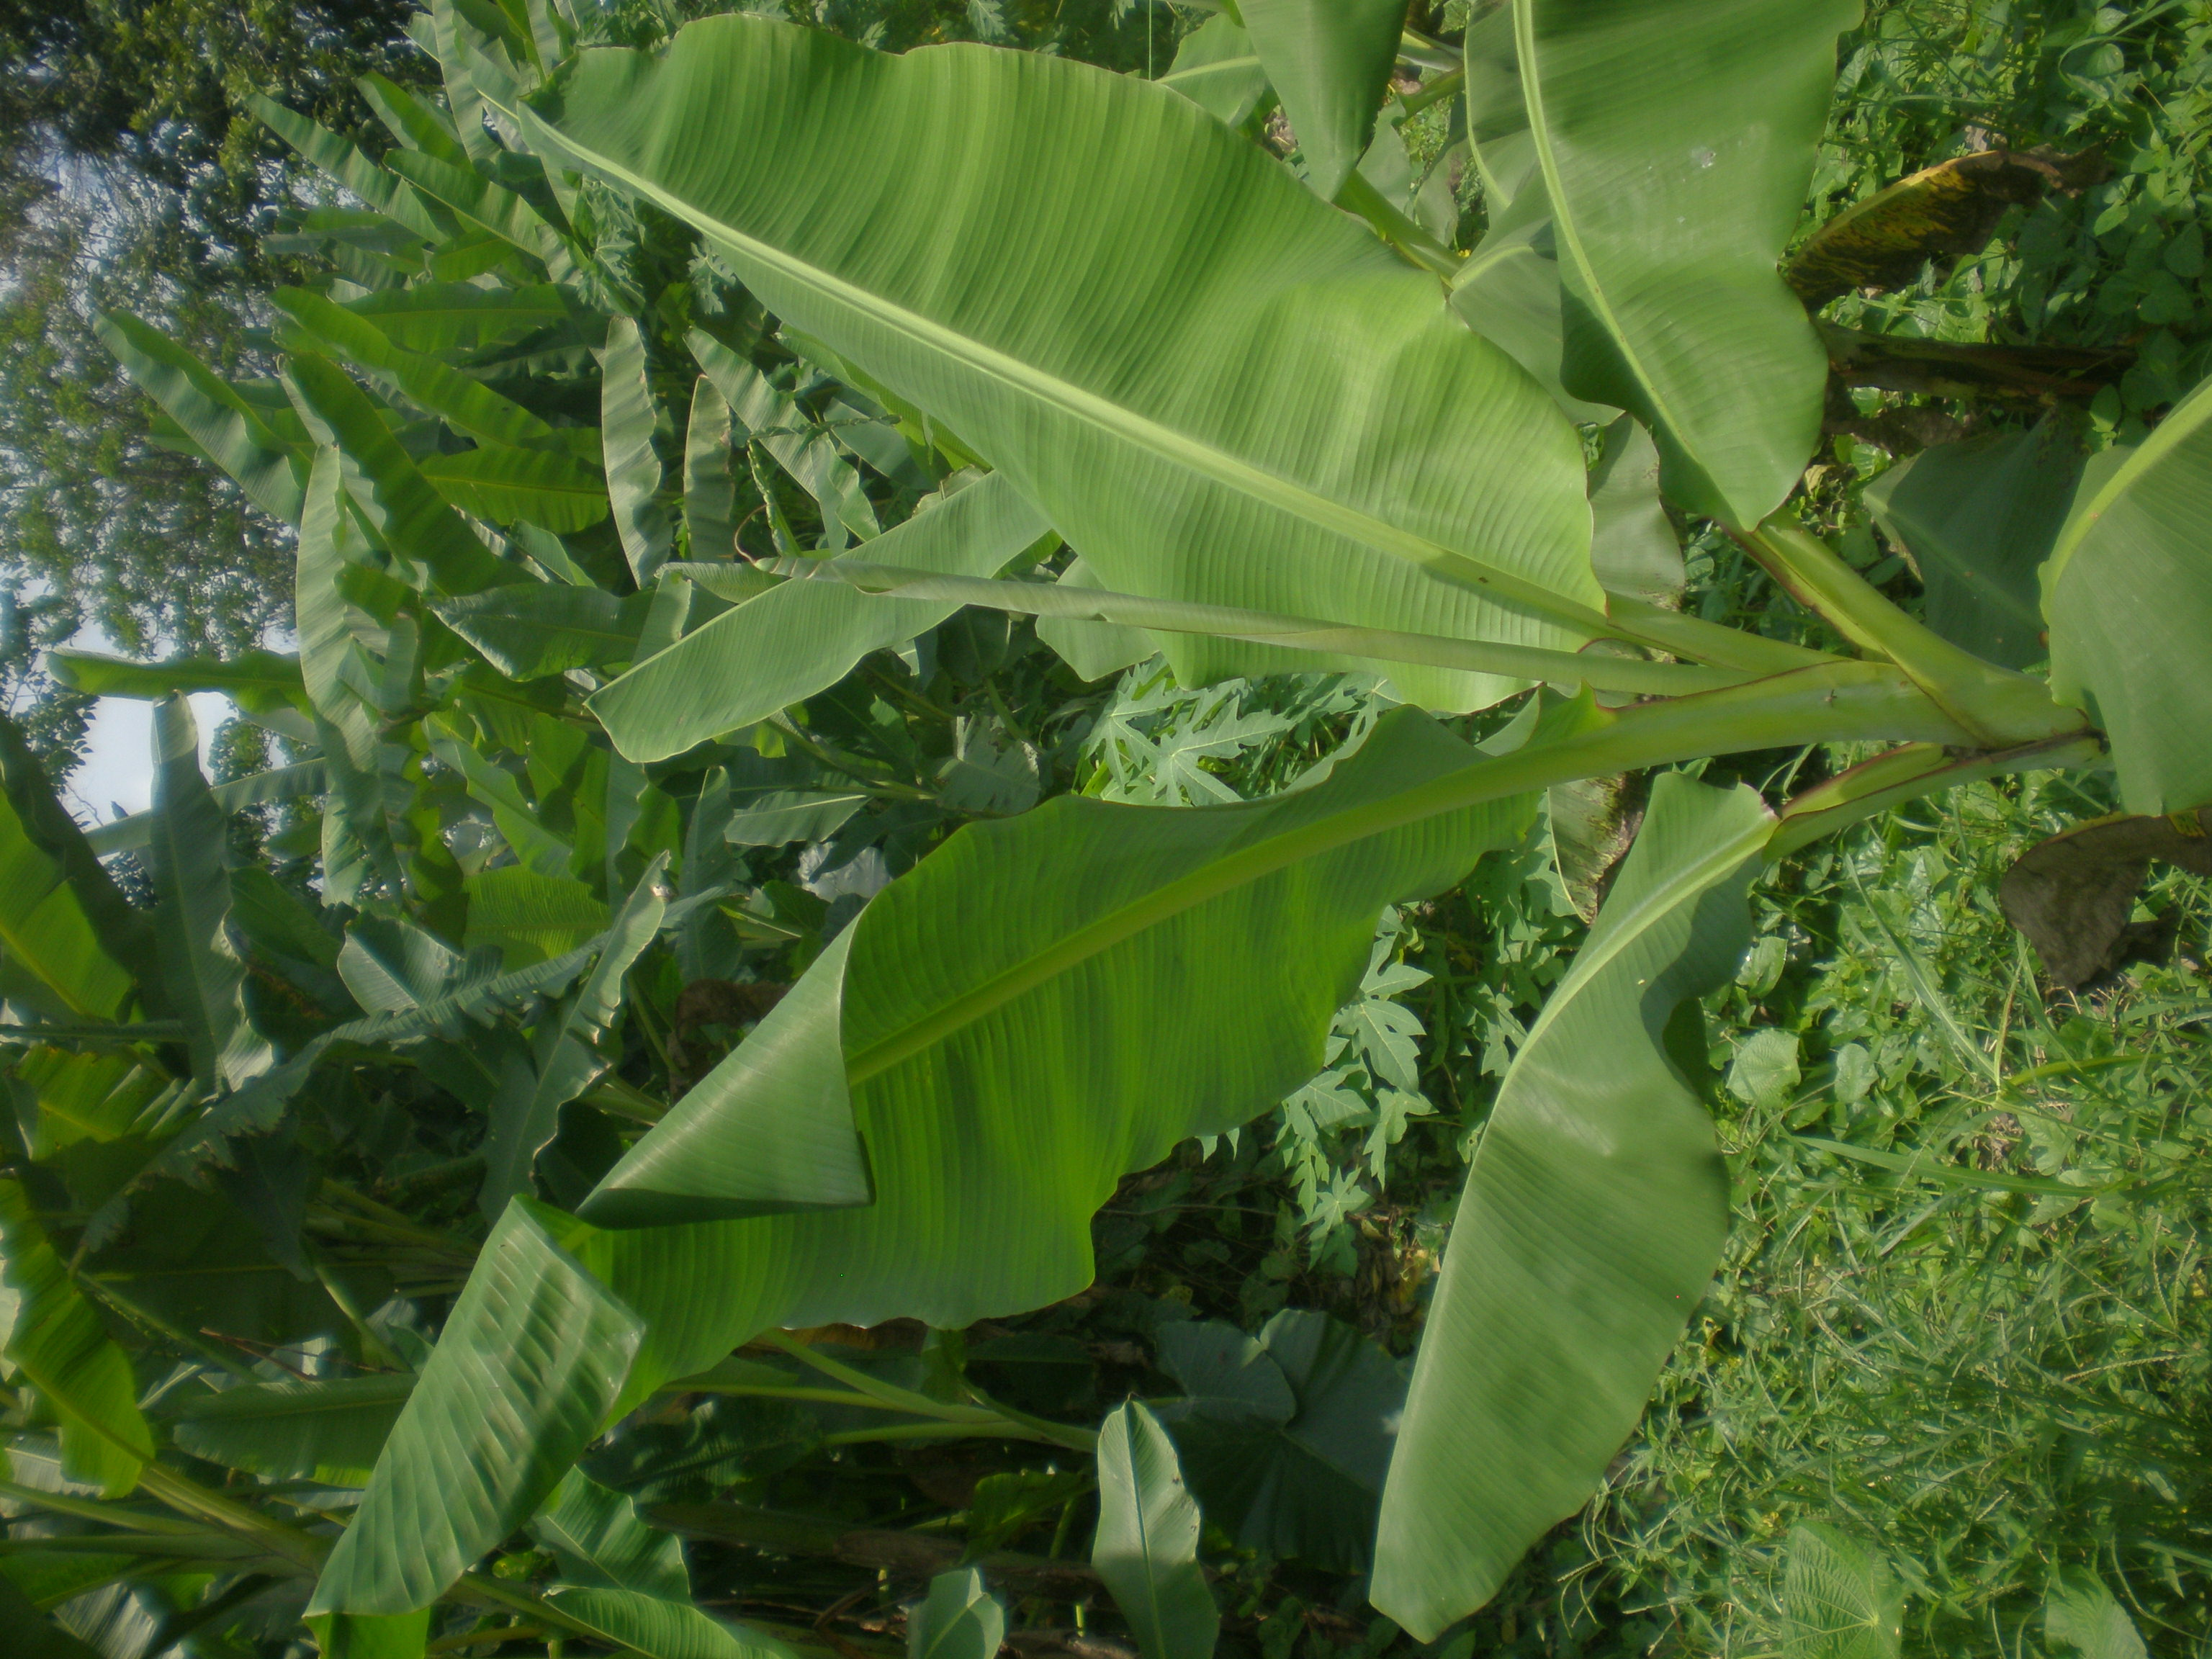candleleafs: (761, 556, 1658, 708)
